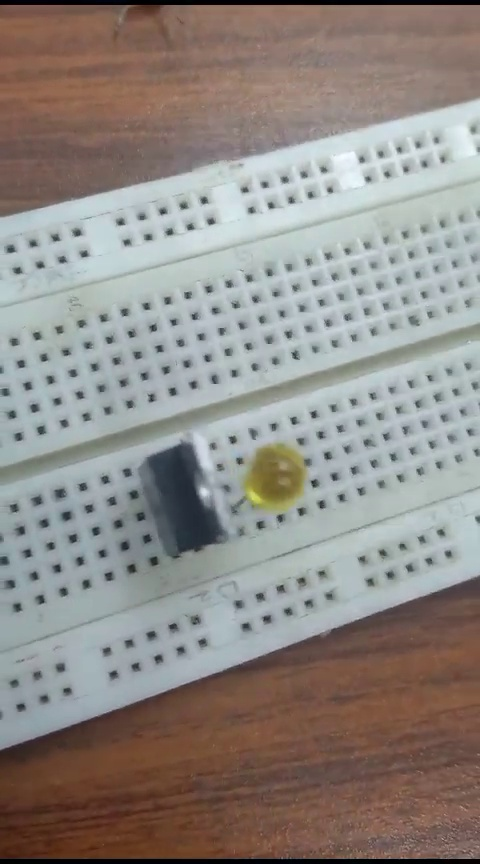LED: (248, 449, 303, 515)
voltage regulator: (131, 437, 228, 569)
